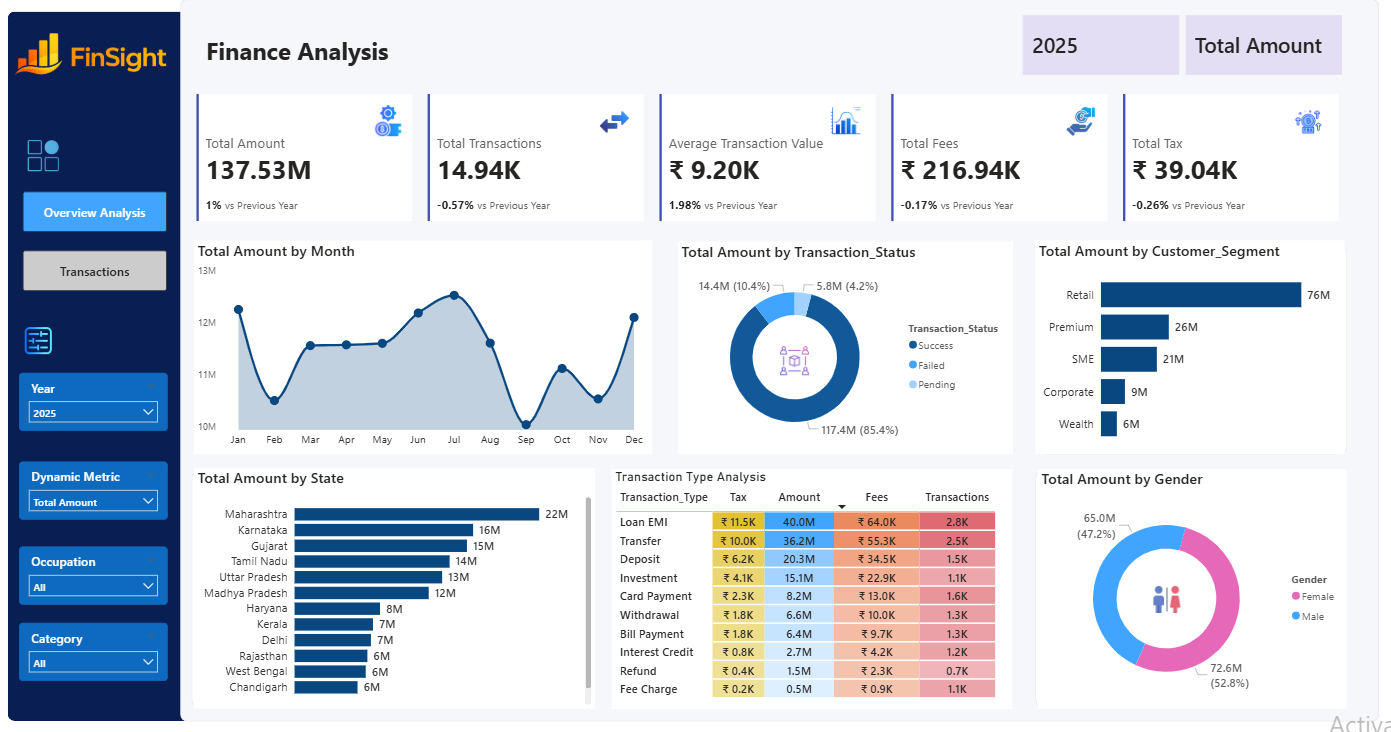

The page's visual inventory and layout, read from the dashboard file:
{"tool":"powerbi","page":{"name":"Overview Analysis","canvas":[1800,950],"ordinal":0},"visuals":[{"type":"shape","box":[11.4,16.4,279.6,915.7],"z":0},{"type":"shape","box":[234.2,0,1547.4,932.6],"z":1000},{"type":"image","box":[8.1,16.1,225.9,109.7],"z":2000},{"type":"cardVisual","fields":{"Data":["Finance_transactions.Dashboard Title"]},"box":[250.2,21.3,281.3,104.7],"z":3000},{"type":"cardVisual","fields":{"Data":["Finance_transactions.Total Amount","Finance_transactions.Total Transactions","Finance_transactions.Average Transaction Value","Finance_transactions.Total Fees","Finance_transactions.Total  Tax"]},"box":[248.8,117.1,1488.9,181.9],"z":4000},{"type":"slicer","fields":{"Values":["Calendar Table.Year"]},"box":[25,482.3,192.4,75.3],"z":5000},{"type":"image","box":[477.4,132.3,50.1,50.1],"z":6000},{"type":"image","box":[769.5,133.8,50.2,50.2],"z":7000},{"type":"image","box":[1371.8,133.8,50.2,48.1],"z":8000},{"type":"image","box":[1069.7,132.3,50,50],"z":9000},{"type":"image","box":[1666.7,133.9,50,50],"z":10000},{"type":"slicer","fields":{"Values":["Dynamic Metric.Dynamic Metric"]},"box":[25,597.3,192.4,75.3],"z":11000},{"type":"shape","box":[250.9,311.6,591.8,276],"z":12000},{"type":"areaChart","fields":{"Y":["Finance_transactions.Total Amount"],"Category":["Calendar Table.Month"]},"box":[250.9,311.6,591.8,276],"z":13000},{"type":"cardVisual","fields":{"Data":["Finance_transactions.Selected Year","Dynamic Metric.Selected Dynamic Measure"]},"box":[1317.4,16.7,422.4,87.8],"z":14000},{"type":"shape","box":[876.2,313.7,432.9,273.9],"z":15000},{"type":"donutChart","fields":{"Y":["Finance_transactions.Total Amount"],"Category":["Finance_transactions.transaction_status"]},"box":[876.1,313,432.4,274.3],"z":16000},{"type":"shape","box":[1340.4,315.8,399.4,271.8],"z":17000},{"type":"barChart","fields":{"Y":["Finance_transactions.Total Amount"],"Category":["Customers.customer_segment"]},"box":[1338.3,311.6,399.4,276],"z":18000},{"type":"shape","box":[248.5,606.7,521.1,309.8],"z":19000},{"type":"barChart","fields":{"Y":["Finance_transactions.Total Amount"],"Category":["Customers.state"]},"box":[251.7,605,517.9,311.4],"z":20000},{"type":"tableEx","title":"Transaction Type Analysis","fields":{"Values":["Finance_transactions.transaction_type","Finance_transactions.Total  Tax","Finance_transactions.Total Amount","Finance_transactions.Total Fees","Finance_transactions.Total Transactions"]},"box":[790.6,606.7,517.9,309.8],"z":21000},{"type":"shape","box":[1337.6,606.7,400.1,309.8],"z":22000},{"type":"donutChart","fields":{"Y":["Finance_transactions.Total Amount"],"Category":["Customers.gender"]},"box":[1340.8,606.7,398.5,309.8],"z":23000},{"type":"image","box":[1002,442.1,50,50],"z":24000},{"type":"image","box":[1482.8,750.3,50,50],"z":25000},{"type":"slicer","fields":{"Values":["Customers.occupation"]},"box":[25,706.1,192.4,75.3],"z":26000},{"type":"slicer","fields":{"Values":["Finance_transactions.merchant_category"]},"box":[25,804.3,192.4,75.3],"z":27000},{"type":"pageNavigator","box":[31.4,248.8,186.1,129.6],"z":28000},{"type":"image","box":[32.2,177,50.1,50.1],"z":28001},{"type":"image","box":[25,416.6,50.1,50.1],"z":28002}]}

Visuals, with their boxes on the page's 1800x950 design canvas (x1, y1, x2, y2). These are canvas units, not pixel positions in the 1391x732 screenshot, which may show the page scaled, cropped or inside an application window:
shape: box(11, 16, 291, 932)
shape: box(234, 0, 1782, 933)
image: box(8, 16, 234, 126)
cardVisual - Finance_transactions.Dashboard Title: box(250, 21, 532, 126)
cardVisual - Finance_transactions.Total Amount x Finance_transactions.Total Transactions: box(249, 117, 1738, 299)
slicer - Calendar Table.Year: box(25, 482, 217, 558)
image: box(477, 132, 528, 182)
image: box(770, 134, 820, 184)
image: box(1372, 134, 1422, 182)
image: box(1070, 132, 1120, 182)
image: box(1667, 134, 1717, 184)
slicer - Dynamic Metric.Dynamic Metric: box(25, 597, 217, 673)
shape: box(251, 312, 843, 588)
areaChart - Finance_transactions.Total Amount x Calendar Table.Month: box(251, 312, 843, 588)
cardVisual - Finance_transactions.Selected Year x Dynamic Metric.Selected Dynamic Measure: box(1317, 17, 1740, 104)
shape: box(876, 314, 1309, 588)
donutChart - Finance_transactions.Total Amount x Finance_transactions.transaction_status: box(876, 313, 1308, 587)
shape: box(1340, 316, 1740, 588)
barChart - Finance_transactions.Total Amount x Customers.customer_segment: box(1338, 312, 1738, 588)
shape: box(248, 607, 770, 916)
barChart - Finance_transactions.Total Amount x Customers.state: box(252, 605, 770, 916)
"Transaction Type Analysis" tableEx: box(791, 607, 1308, 916)
shape: box(1338, 607, 1738, 916)
donutChart - Finance_transactions.Total Amount x Customers.gender: box(1341, 607, 1739, 916)
image: box(1002, 442, 1052, 492)
image: box(1483, 750, 1533, 800)
slicer - Customers.occupation: box(25, 706, 217, 781)
slicer - Finance_transactions.merchant_category: box(25, 804, 217, 880)
pageNavigator: box(31, 249, 218, 378)
image: box(32, 177, 82, 227)
image: box(25, 417, 75, 467)
